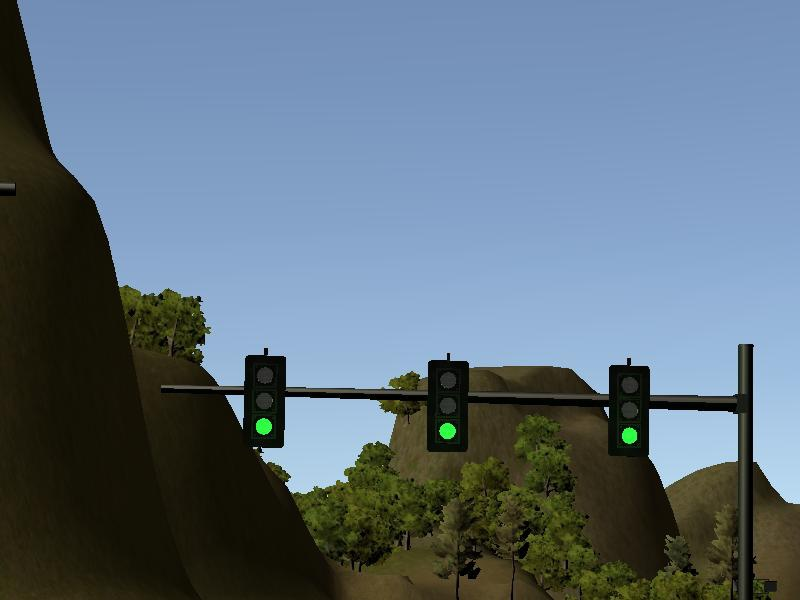Green: (245, 356, 285, 448), (610, 365, 648, 459), (429, 361, 467, 451)
